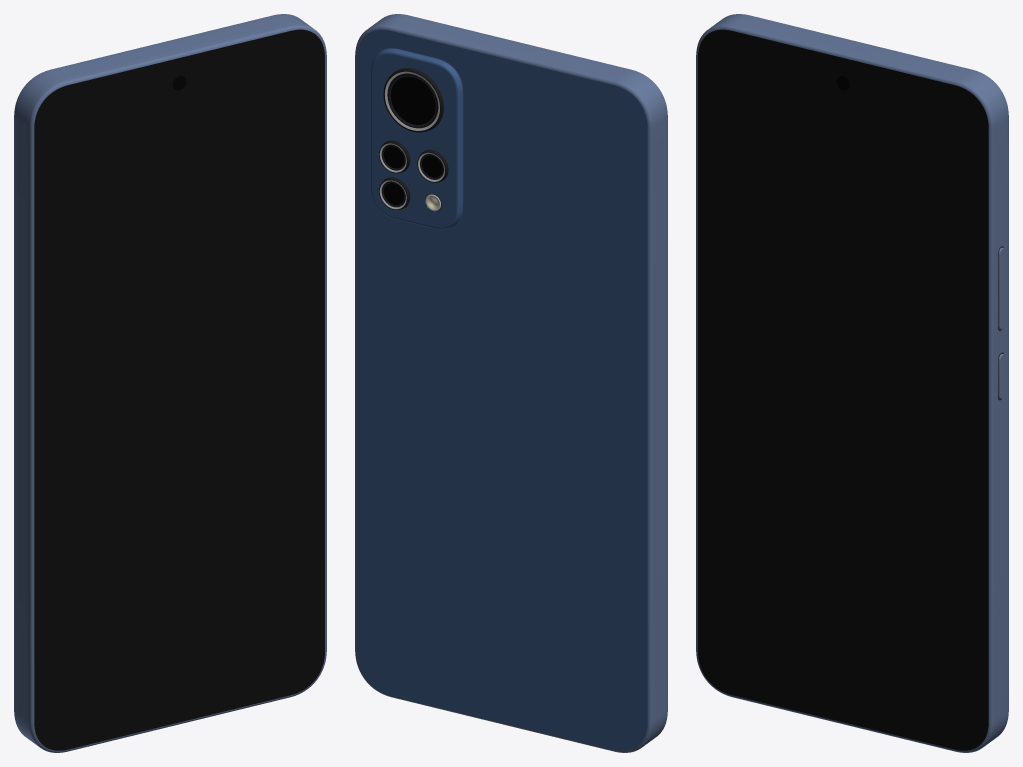
The model's file is redmi-note-12-pro.glb.
3 renders of one model, left to right at view 1: azimuth 30°, elevation 25°; view 2: azimuth 150°, elevation 25°; view 3: azimuth 330°, elevation 25°, orthographic.
Visible parts, largest first — view 1: body; view 2: body, camera; view 3: body, buttons.
Boxes of the visible parts, x1,y1,x2,y2 form: body: (14, 14, 326, 752); body: (355, 14, 667, 752); camera: (370, 48, 463, 229); body: (696, 14, 1008, 752); buttons: (998, 246, 1004, 400).
Bounding box in the file's own units: 76.53 × 164 × 10.52.
